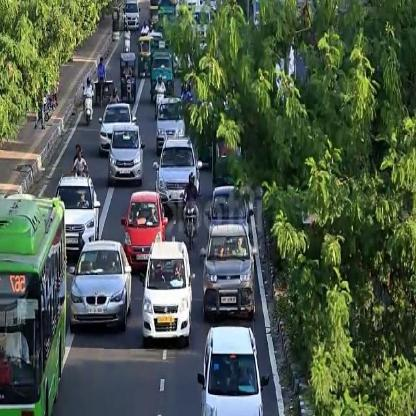bike: (182, 196, 199, 248), (82, 81, 96, 123)
bus: (0, 192, 68, 414)
car: (197, 322, 271, 414), (68, 237, 134, 335), (140, 235, 196, 348), (200, 220, 258, 324), (154, 132, 202, 206), (106, 121, 146, 190)
